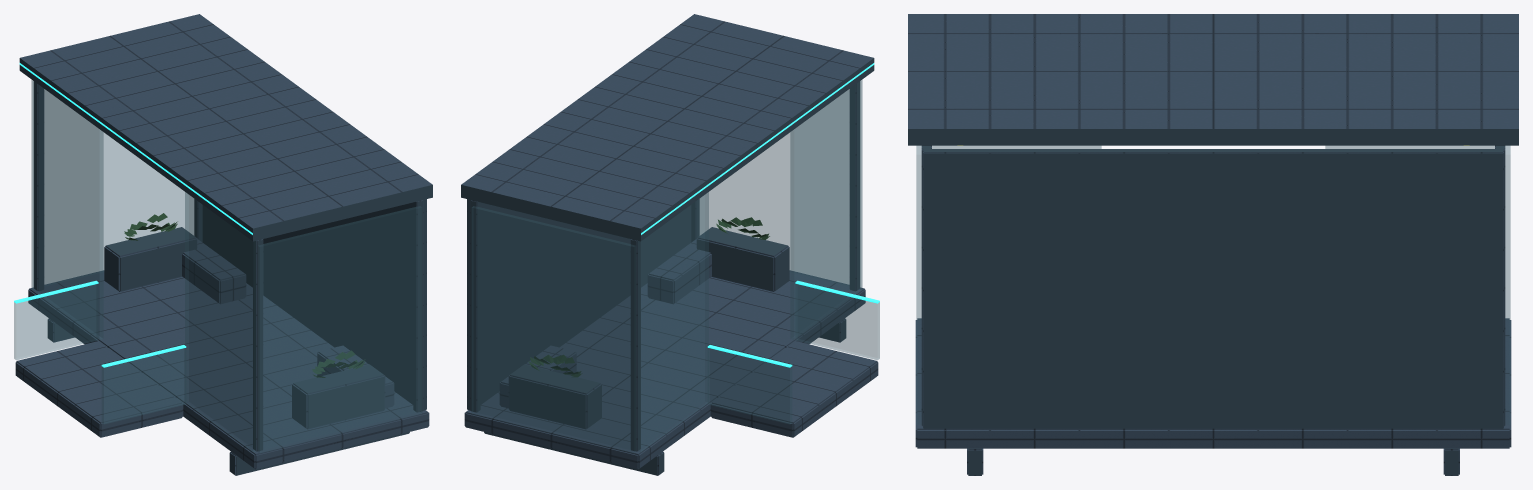
File: east-public-room-52.glb
3 renders of one model, left to right at view 1: azimuth 30°, elevation 25°; view 2: azimuth 150°, elevation 25°; view 3: azimuth 270°, elevation 25°, orthographic. The views are drawn at different scales.
Parts seen in each view (by area): view 1: east-public-room-52::east-loggia-52-back, east-public-room-52::east-loggia-52-bridge-edge-308.46, east-public-room-52::east-loggia-52-bridge-edge-308.46-cap, east-public-room-52::east-loggia-52-foliage-306.7; view 2: east-public-room-52::east-loggia-52-back, east-public-room-52::east-loggia-52-bridge-edge-308.46, east-public-room-52::east-loggia-52-bridge-edge-308.46-cap, east-public-room-52::east-loggia-52-foliage-306.7; view 3: east-public-room-52::east-loggia-52-back, east-public-room-52::east-loggia-52-bridge-edge-308.46.
Boxes of the visible parts, x1,y1,x2,y2 form: east-public-room-52::east-loggia-52-back: (15,14,432,475); east-public-room-52::east-loggia-52-bridge-edge-308.46: (14,80,421,452); east-public-room-52::east-loggia-52-bridge-edge-308.46-cap: (14,63,252,367); east-public-room-52::east-loggia-52-foliage-306.7: (124,213,365,377); east-public-room-52::east-loggia-52-back: (461,14,878,475); east-public-room-52::east-loggia-52-bridge-edge-308.46: (472,80,879,452); east-public-room-52::east-loggia-52-bridge-edge-308.46-cap: (641,63,879,367); east-public-room-52::east-loggia-52-foliage-306.7: (528,217,769,377); east-public-room-52::east-loggia-52-back: (908,14,1518,475); east-public-room-52::east-loggia-52-bridge-edge-308.46: (916,146,1510,424).
Bounding box in the file's own units: 5.25 × 5.15 × 8.2.
Materials: 7 (1 with a texture image).
